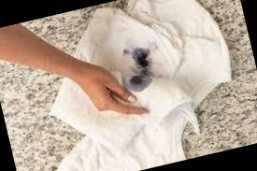ink: (129, 71, 153, 92), (132, 48, 152, 70)
